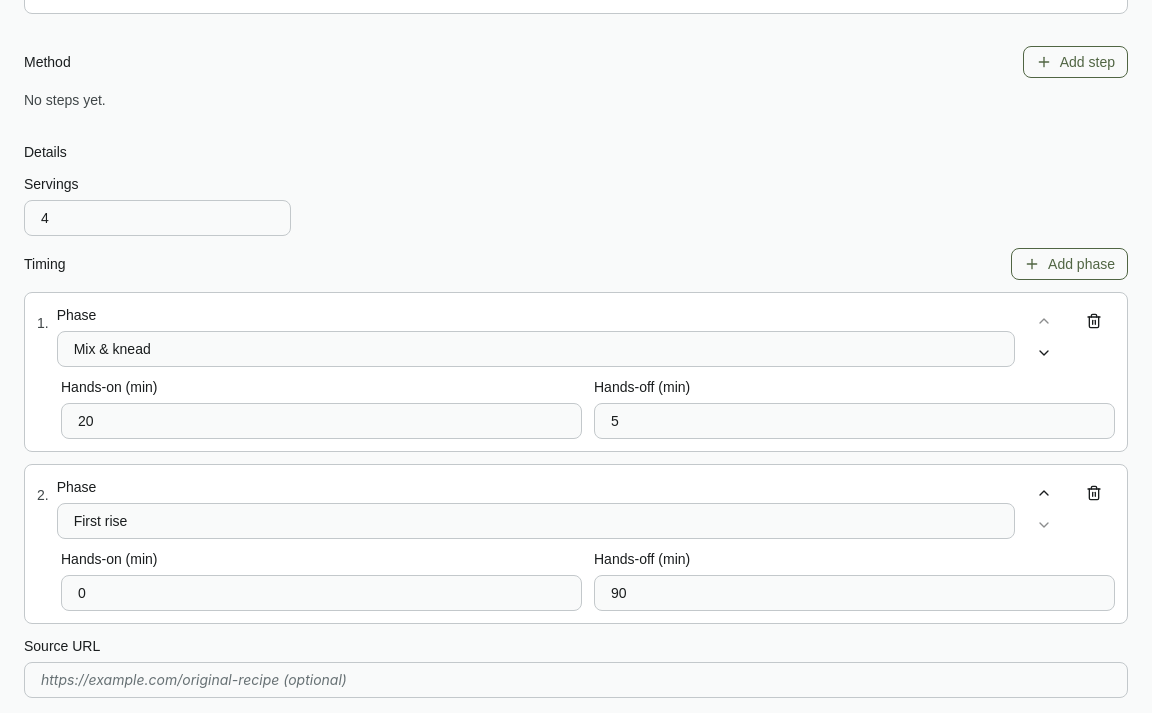
Test: RecipeEditPage — a minute box whose phase changes underneath it › re-seeds when a reorder moves a different phase into its row
(page scrolled)
expect the field with test id "recipe-phase-hands-on-input" below "1." holds "20": met, box [78,411,565,431]
Click the 1st button named "Move phase down". click: [1044, 353]
box: [1023,337,1065,369]
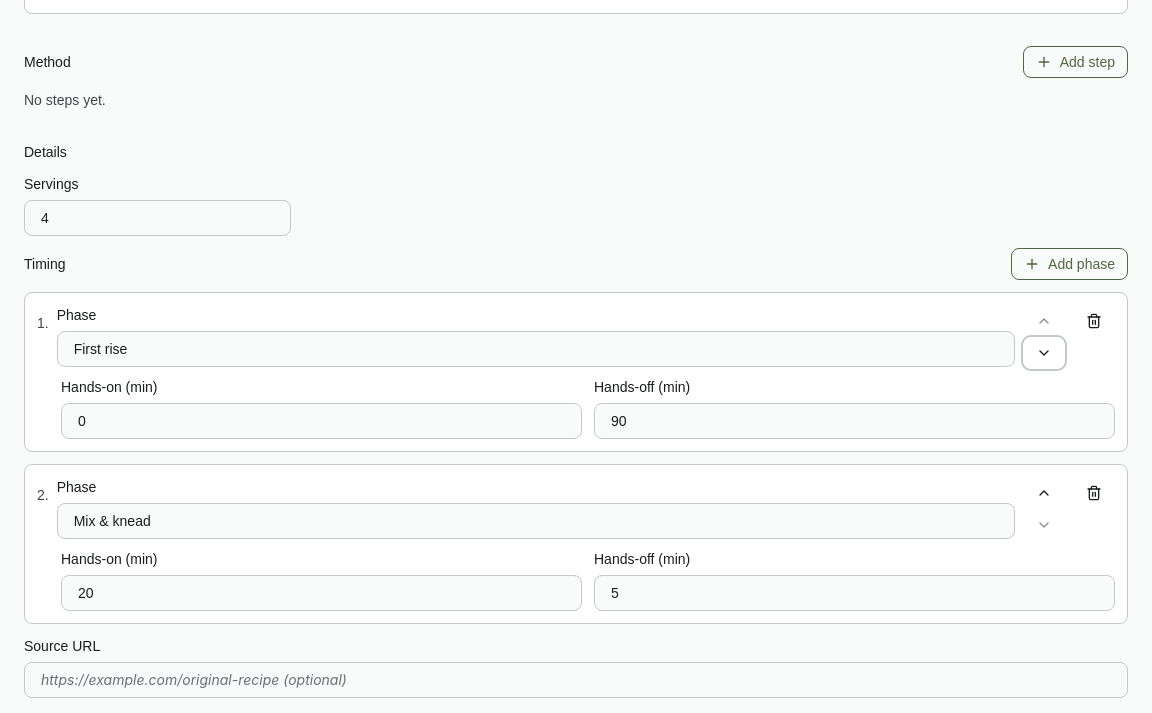
expect the field with test id "recipe-phase-hands-on-input" below "1." holds "0": met, box [78,411,565,431]
expect the 1st field with test id "recipe-phase-hands-off-input" holds "90": met, box [611,411,1098,431]
